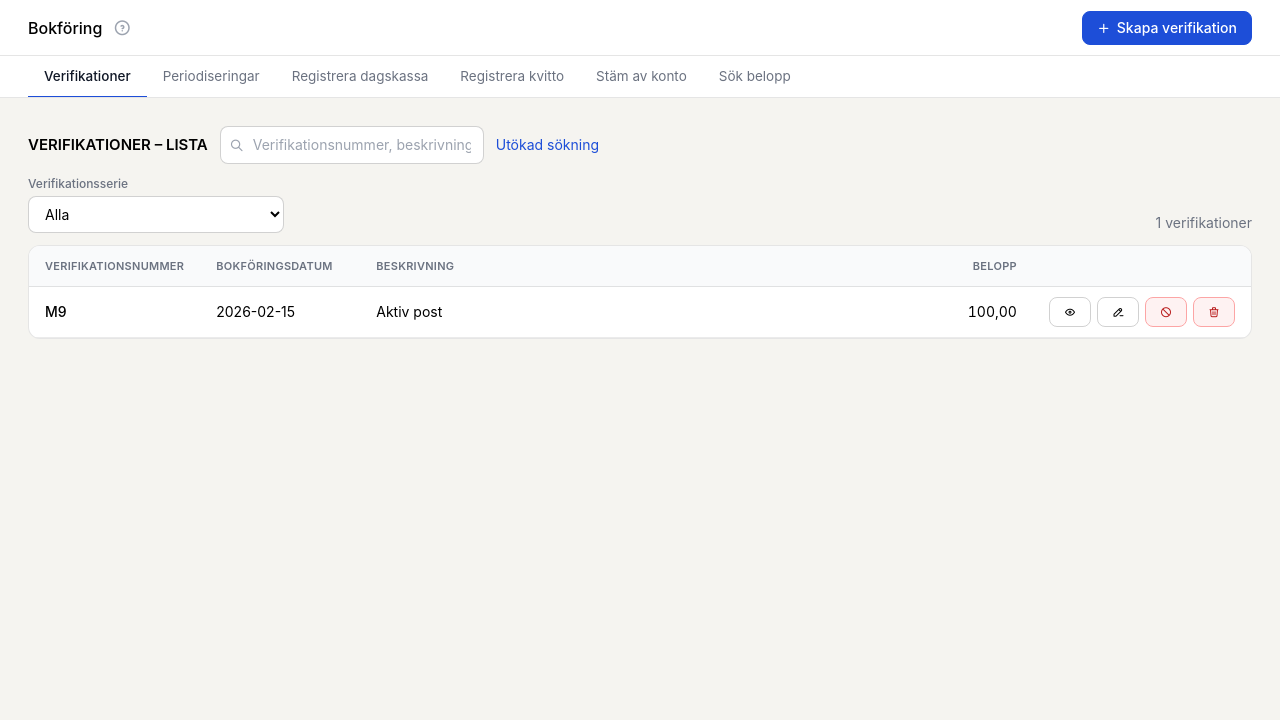
Test: Bokföring – spårbart rättelseflöde (BFL) › original i låst period: modal visar förklaring + föreslår första öppna datum
Check: the text "M9" is shown, box [29, 287, 200, 338]
Click the button titled "Rätta (spårbar rättelsekedja)" at (1118, 312), box [1097, 297, 1139, 327]
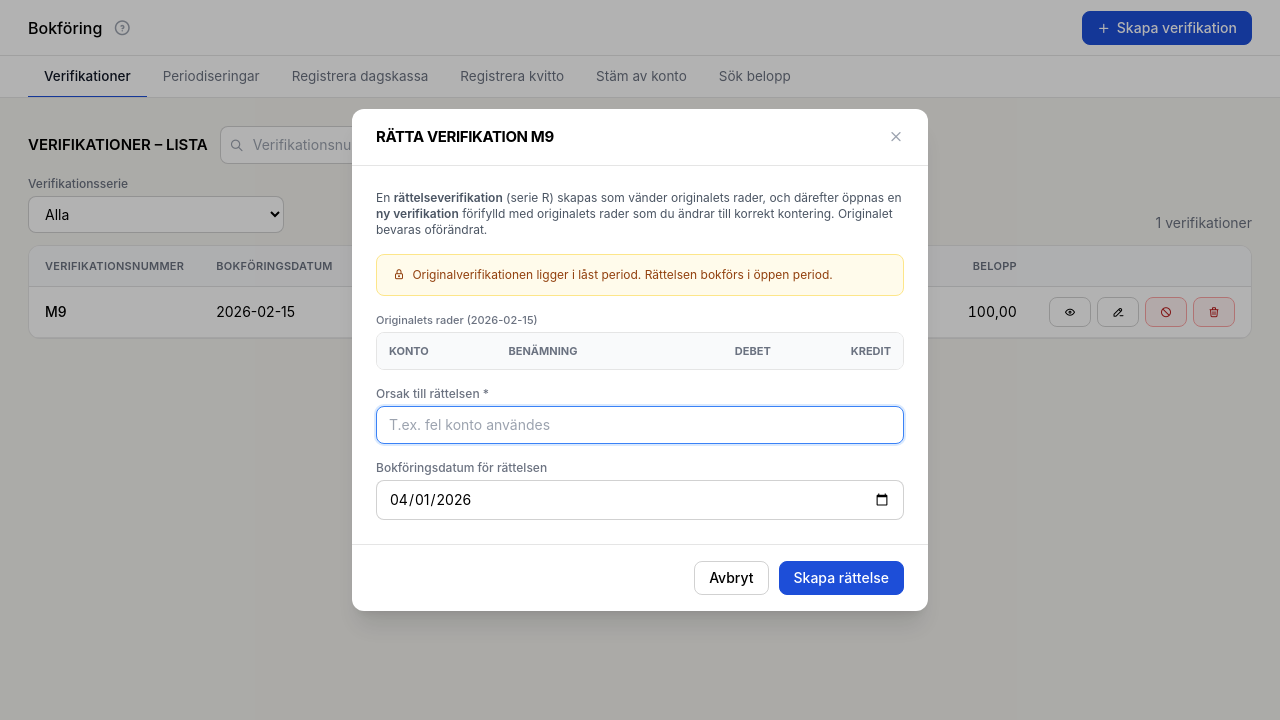
Check: the text "RÄTTA VERIFIKATION M9" is shown, box [376, 126, 554, 148]
Check: the text "Originalverifikationen ligger i låst period. Rättelsen bokförs i öppen period." is shown, box [376, 254, 904, 296]
Check: the date field holds "2026-04-01", box [376, 480, 904, 520]
